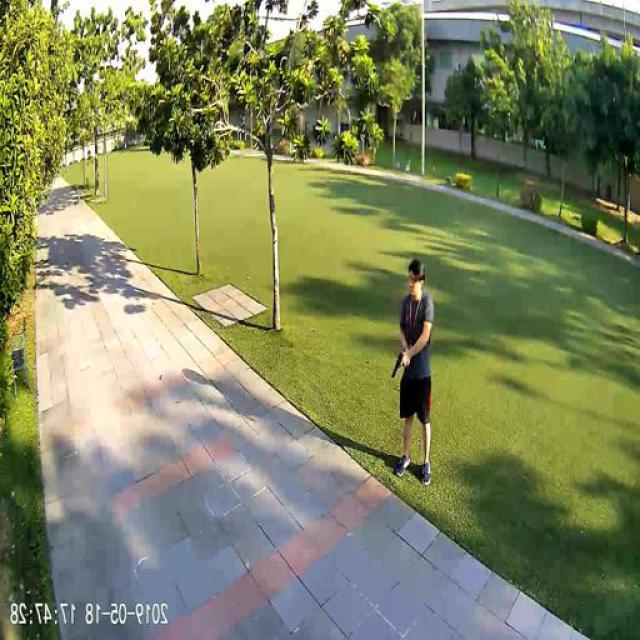Gun: (392, 348, 408, 378)
